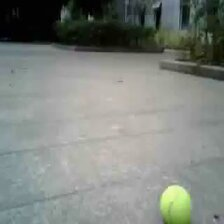tennis: (159, 184, 191, 224)
